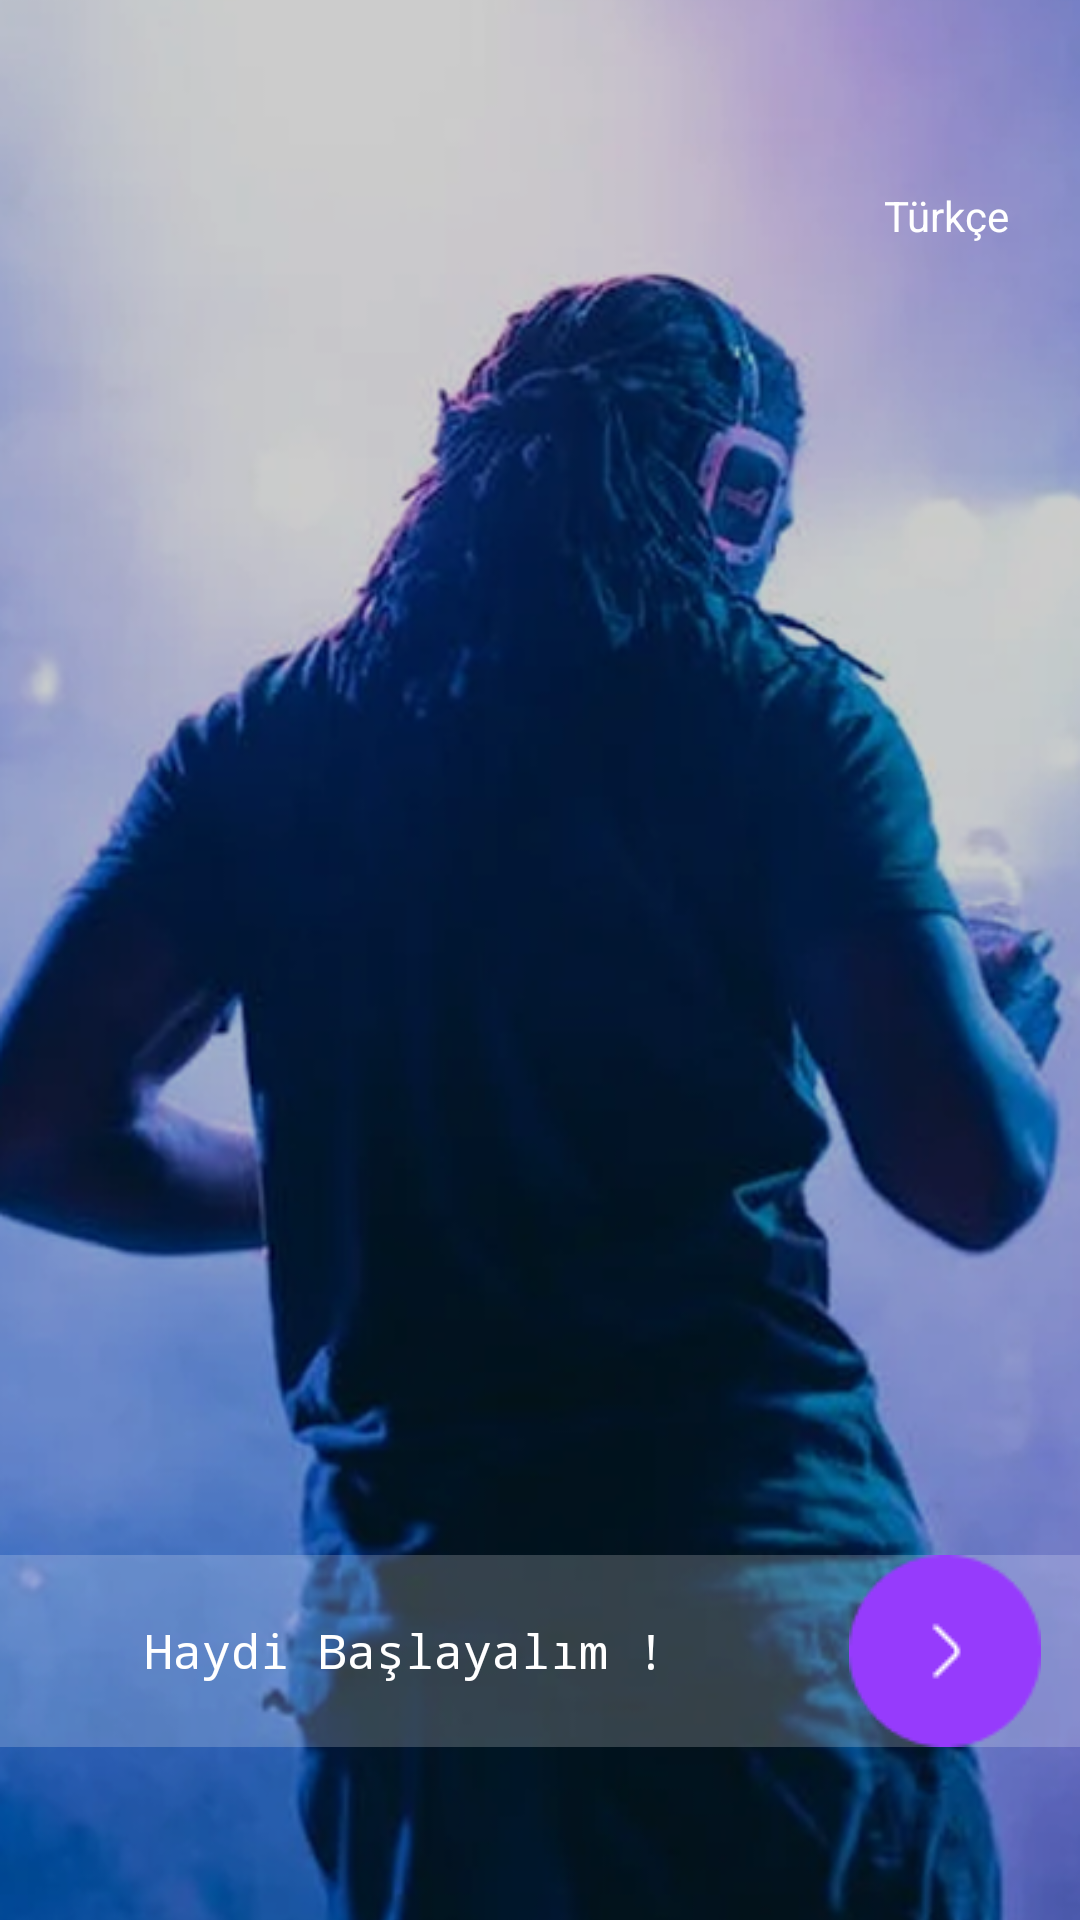

Icon click points for this 1080px×1920px phone screenshot, format point (x, y):
next: point (945, 1651)
